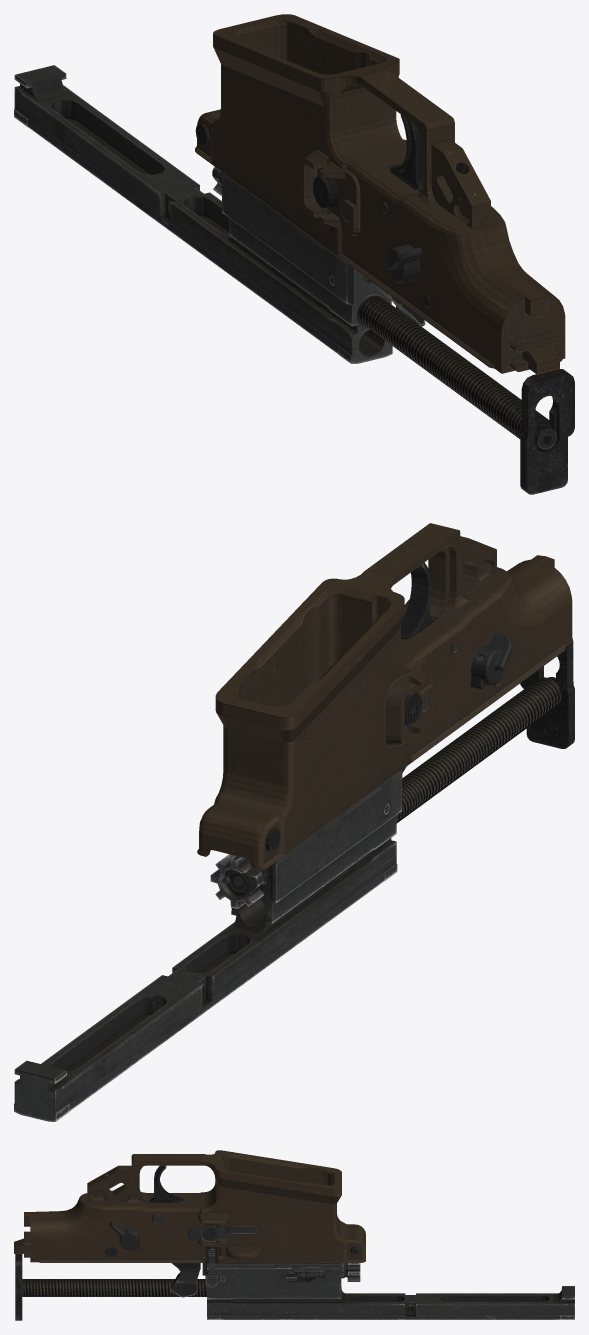
3 views of the same model, one above another, from view 1: azimuth 30°, elevation 25°; view 2: azimuth 150°, elevation 25°; view 3: azimuth 270°, elevation 25° (orthographic). The views are drawn at different scales.
Visible parts, largest first — view 1: TW_6165ac306ef05c2ce828ef74_PZ_Import; view 2: TW_6165ac306ef05c2ce828ef74_PZ_Import; view 3: TW_6165ac306ef05c2ce828ef74_PZ_Import.
Boxes of the visible parts, x1,y1,x2,y2 form: TW_6165ac306ef05c2ce828ef74_PZ_Import: (14,14,574,494); TW_6165ac306ef05c2ce828ef74_PZ_Import: (14,523,574,1121); TW_6165ac306ef05c2ce828ef74_PZ_Import: (14,1150,574,1320).
Bounding box in the file's own units: 0.0295 × 0.2339 × 0.0731.
Materials: 1 (1 with a texture image).
